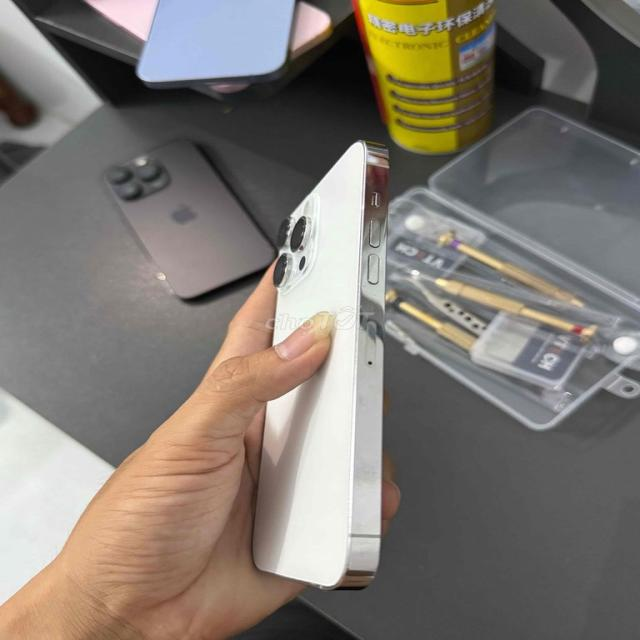gen_14: (248, 132, 400, 596)
